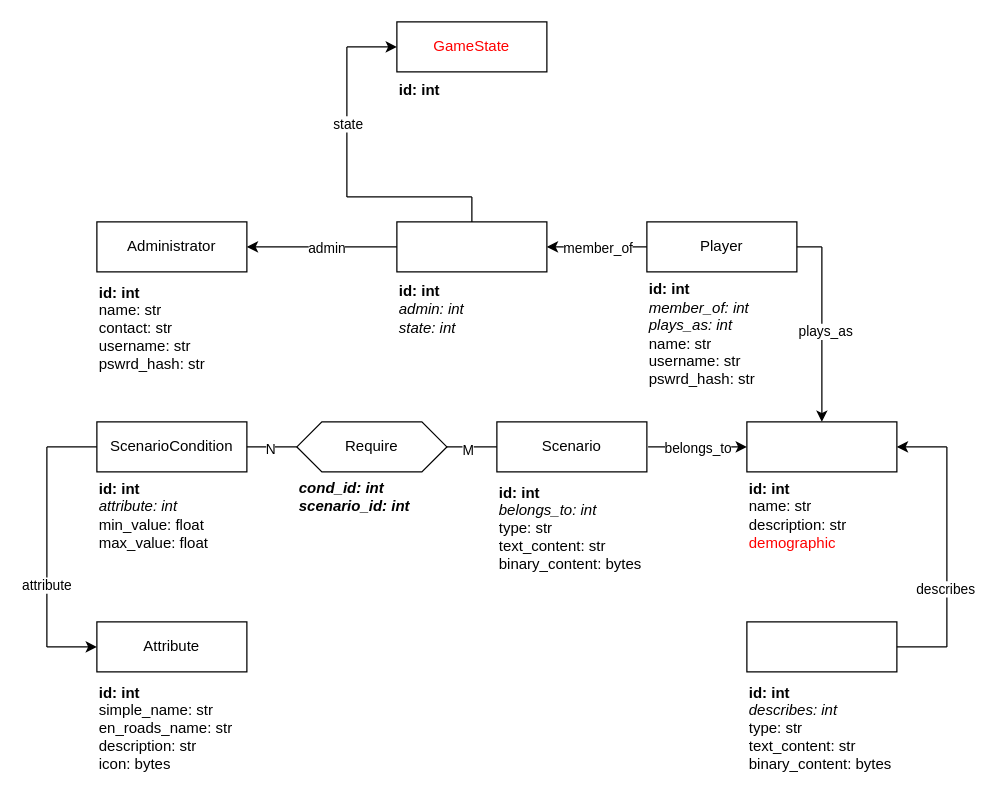
This 996x806 diagram has some shape labels left out. Each missing label, with the centre of its shape:
Game: (471,246)
Role: (821,446)
RoleEntry: (821,646)
